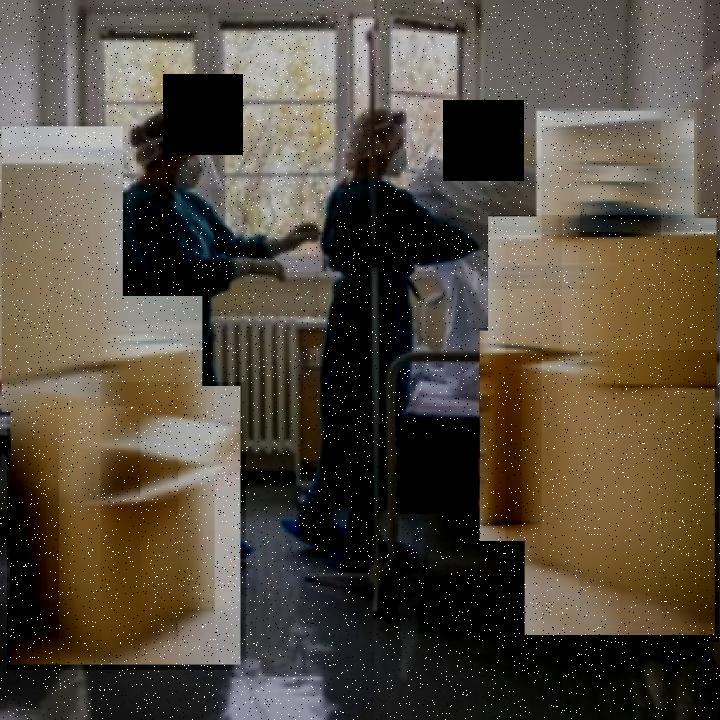box: (7, 382, 246, 670), (522, 350, 719, 642), (0, 122, 126, 418), (562, 215, 719, 394), (535, 108, 697, 266), (110, 294, 205, 469), (488, 215, 580, 372), (479, 328, 542, 544)
